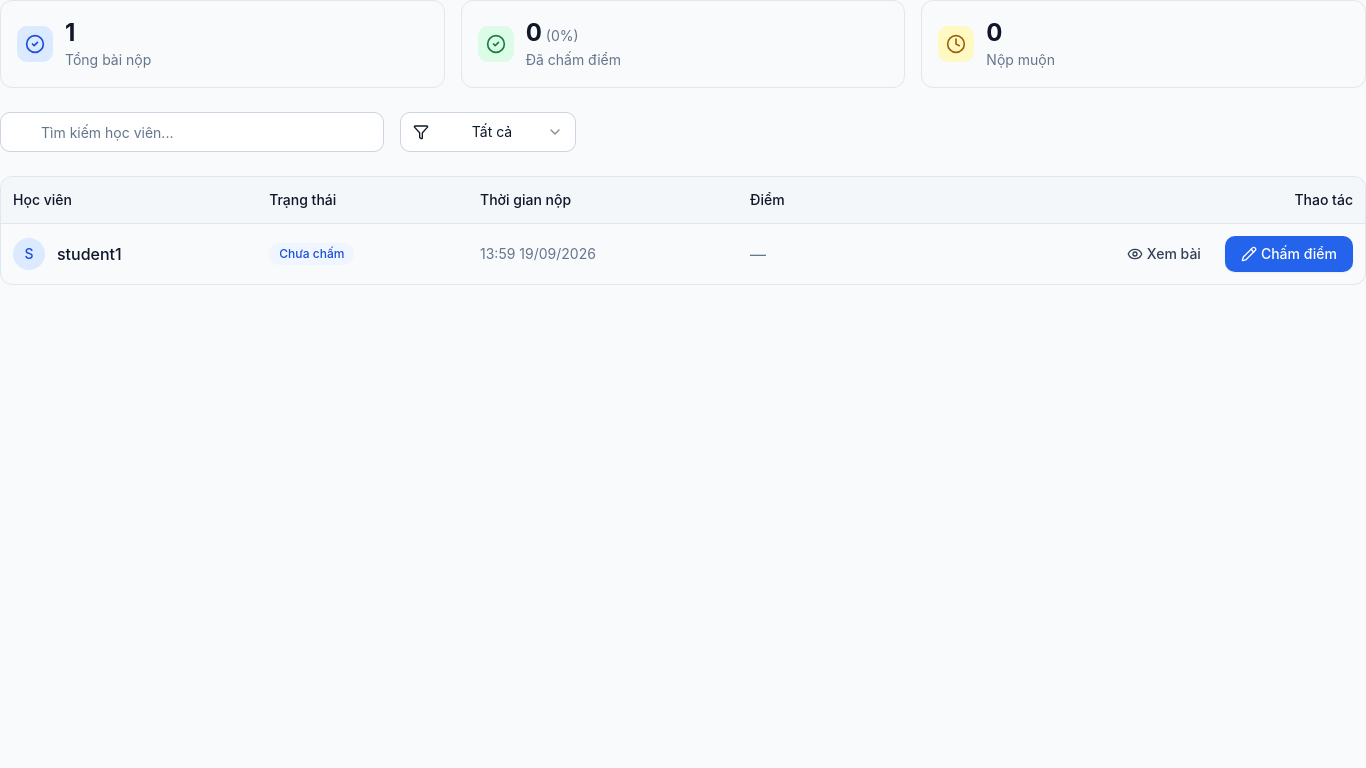
SubmissionGradingPanel › chấm bài mới: gửi điểm (nhận dấu phẩy), nhận xét, gắn bài tập và đóng hộp thoại
This screenshot has width=1366, height=768.
Click the button "Chấm điểm" at (1289, 254), box x1=1225 y1=236 x2=1353 y2=272
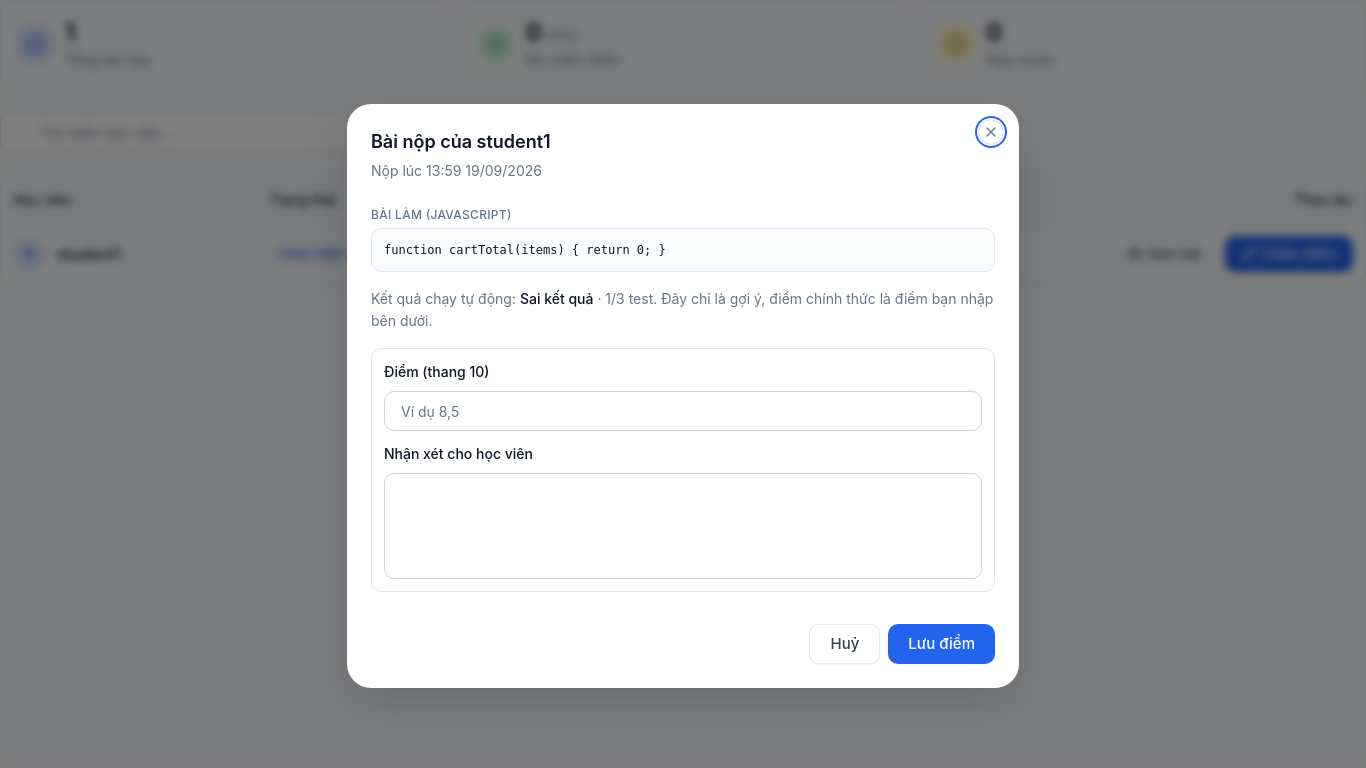
Type "8,5" into the field labelled "Điểm (thang 10)" at (683, 411), box x1=384 y1=391 x2=982 y2=431
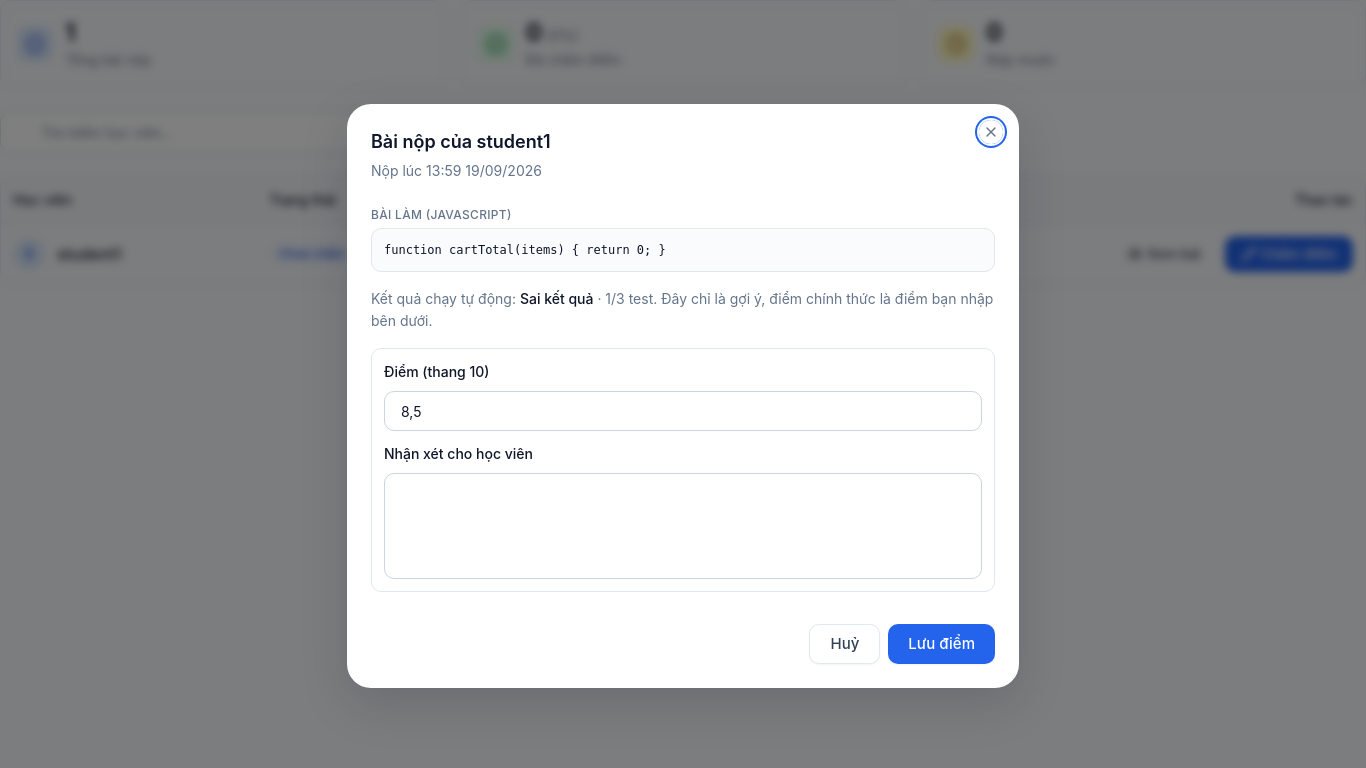
Type "Cần thêm test" into the text box labelled "Nhận xét cho học viên" at (683, 526), box x1=384 y1=473 x2=982 y2=579
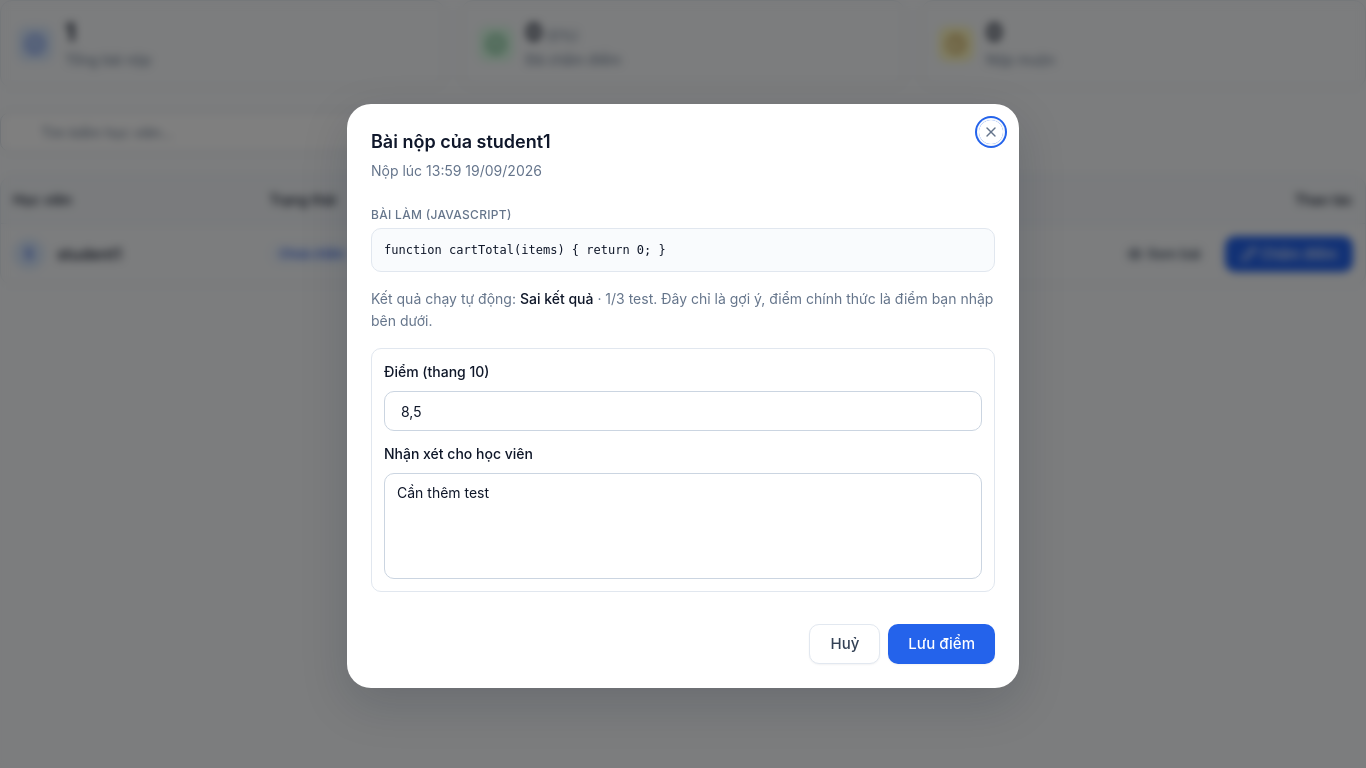
Click the button "Lưu điểm" at (942, 644), box x1=888 y1=624 x2=995 y2=664
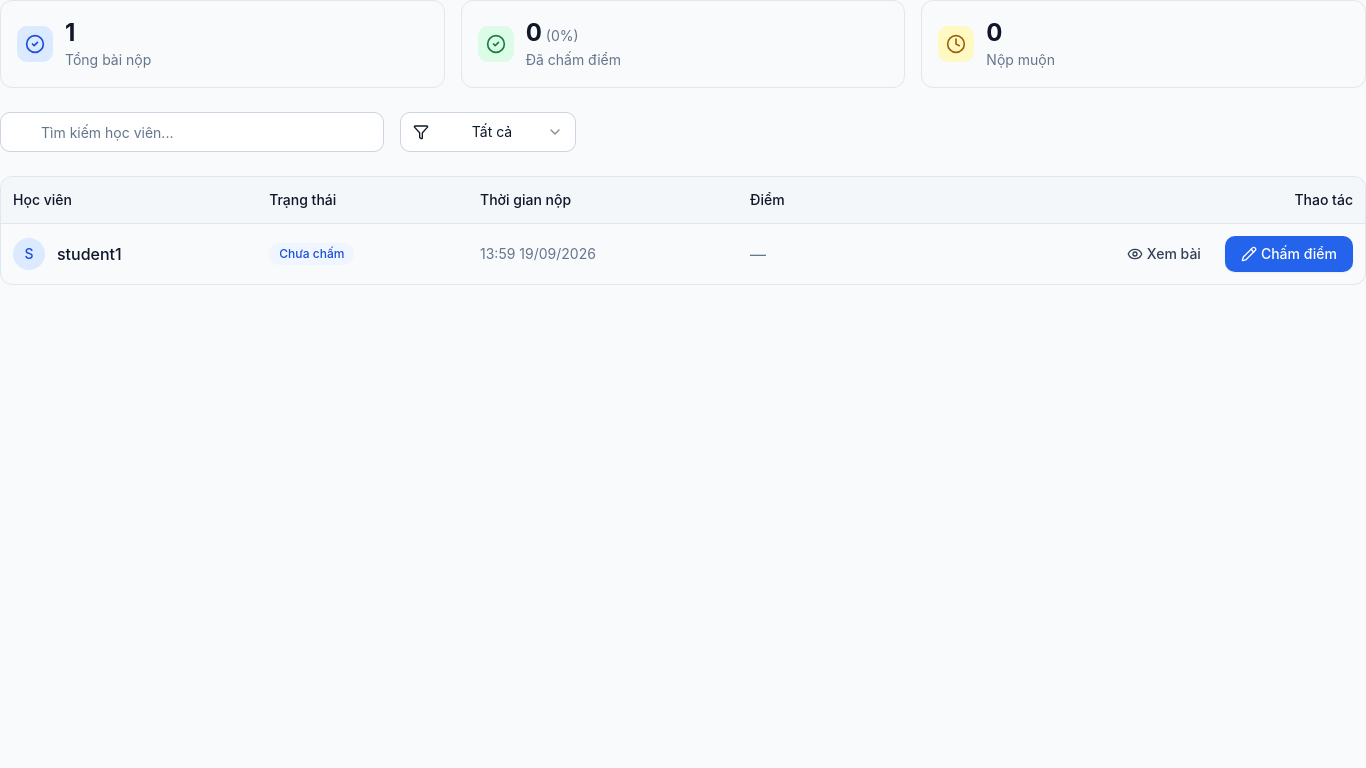
Now the text with test id "submission-code" is gone
